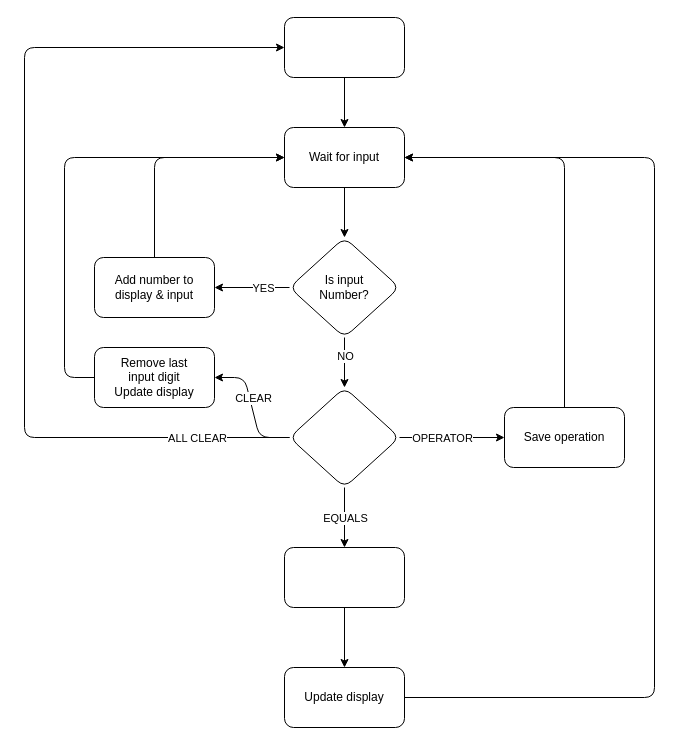
Some shapes in this 680 by 745 pixel diagram are drawn without their labels. The centre of each missing label's shape, as x and y in pixels:
Calculate Result: point 344,577
Clear display & Input: point 344,47
What was pressed?: point 344,437
